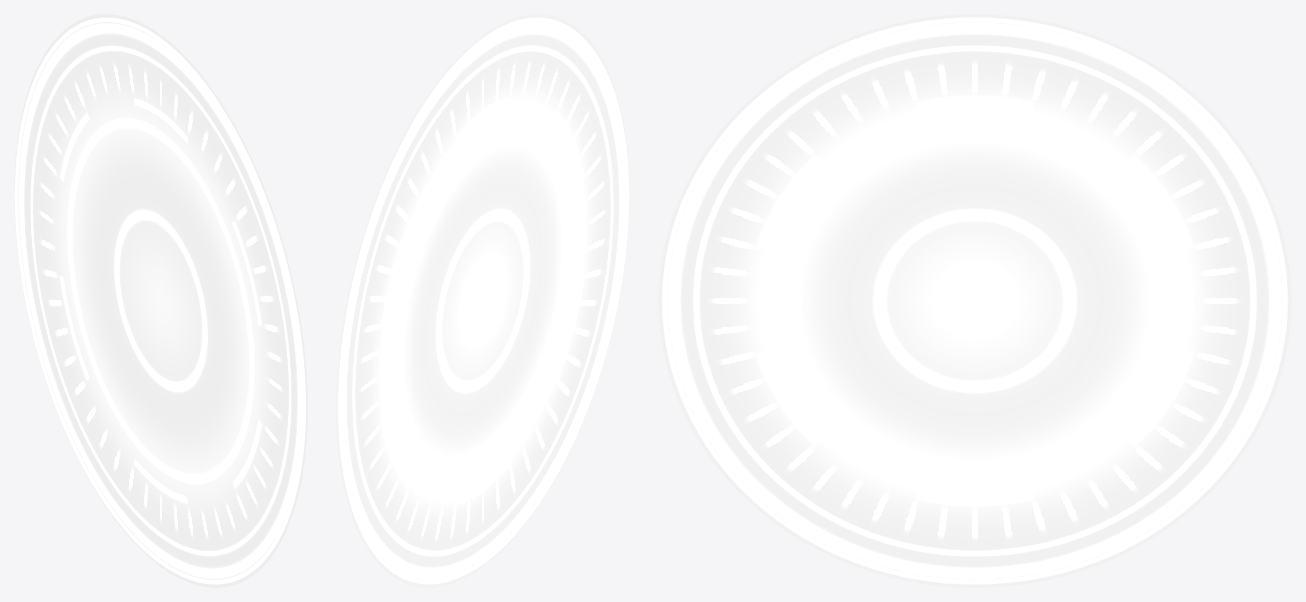
File: P07_strikezone.glb
The picture shows the model from 3 angles, left to right: view 1: azimuth 30°, elevation 25°; view 2: azimuth 150°, elevation 25°; view 3: azimuth 270°, elevation 25°; orthographic projection. The views are drawn at different scales.
Parts seen in each view (by area): view 1: strikezone; view 2: strikezone; view 3: strikezone.
Boxes of the visible parts, box(x1,y1,x2,y2) form: strikezone: box(14, 14, 307, 587); strikezone: box(336, 14, 629, 587); strikezone: box(658, 14, 1291, 587).
Bounding box in the file's own units: 0.0104 × 1.5 × 1.5.
Materials: 2 (1 with a texture image).
